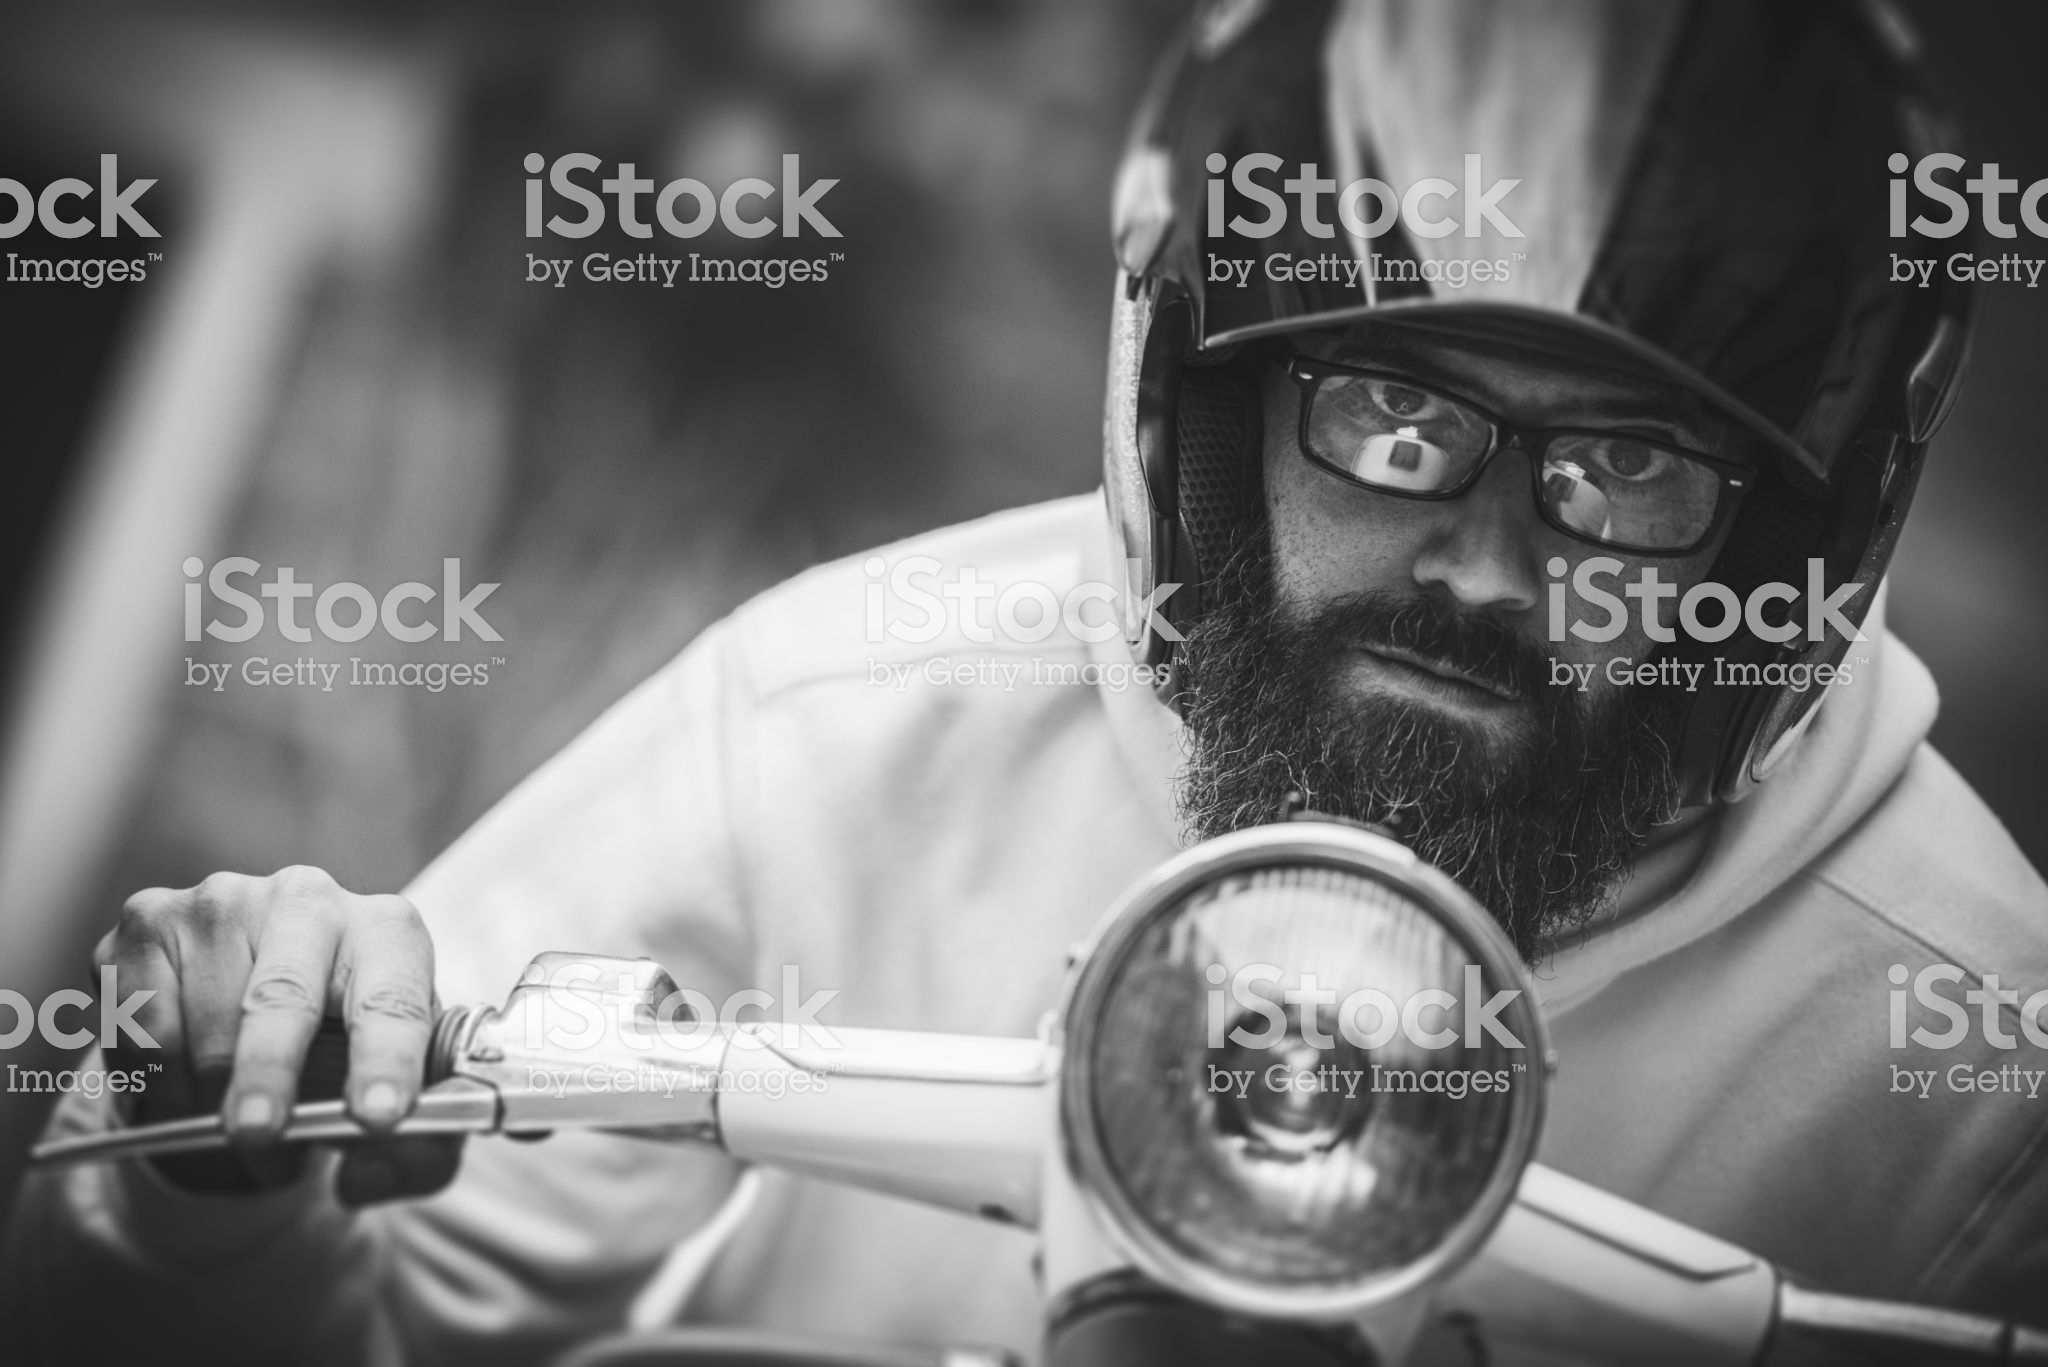helmet: (1119, 34, 1961, 816)
